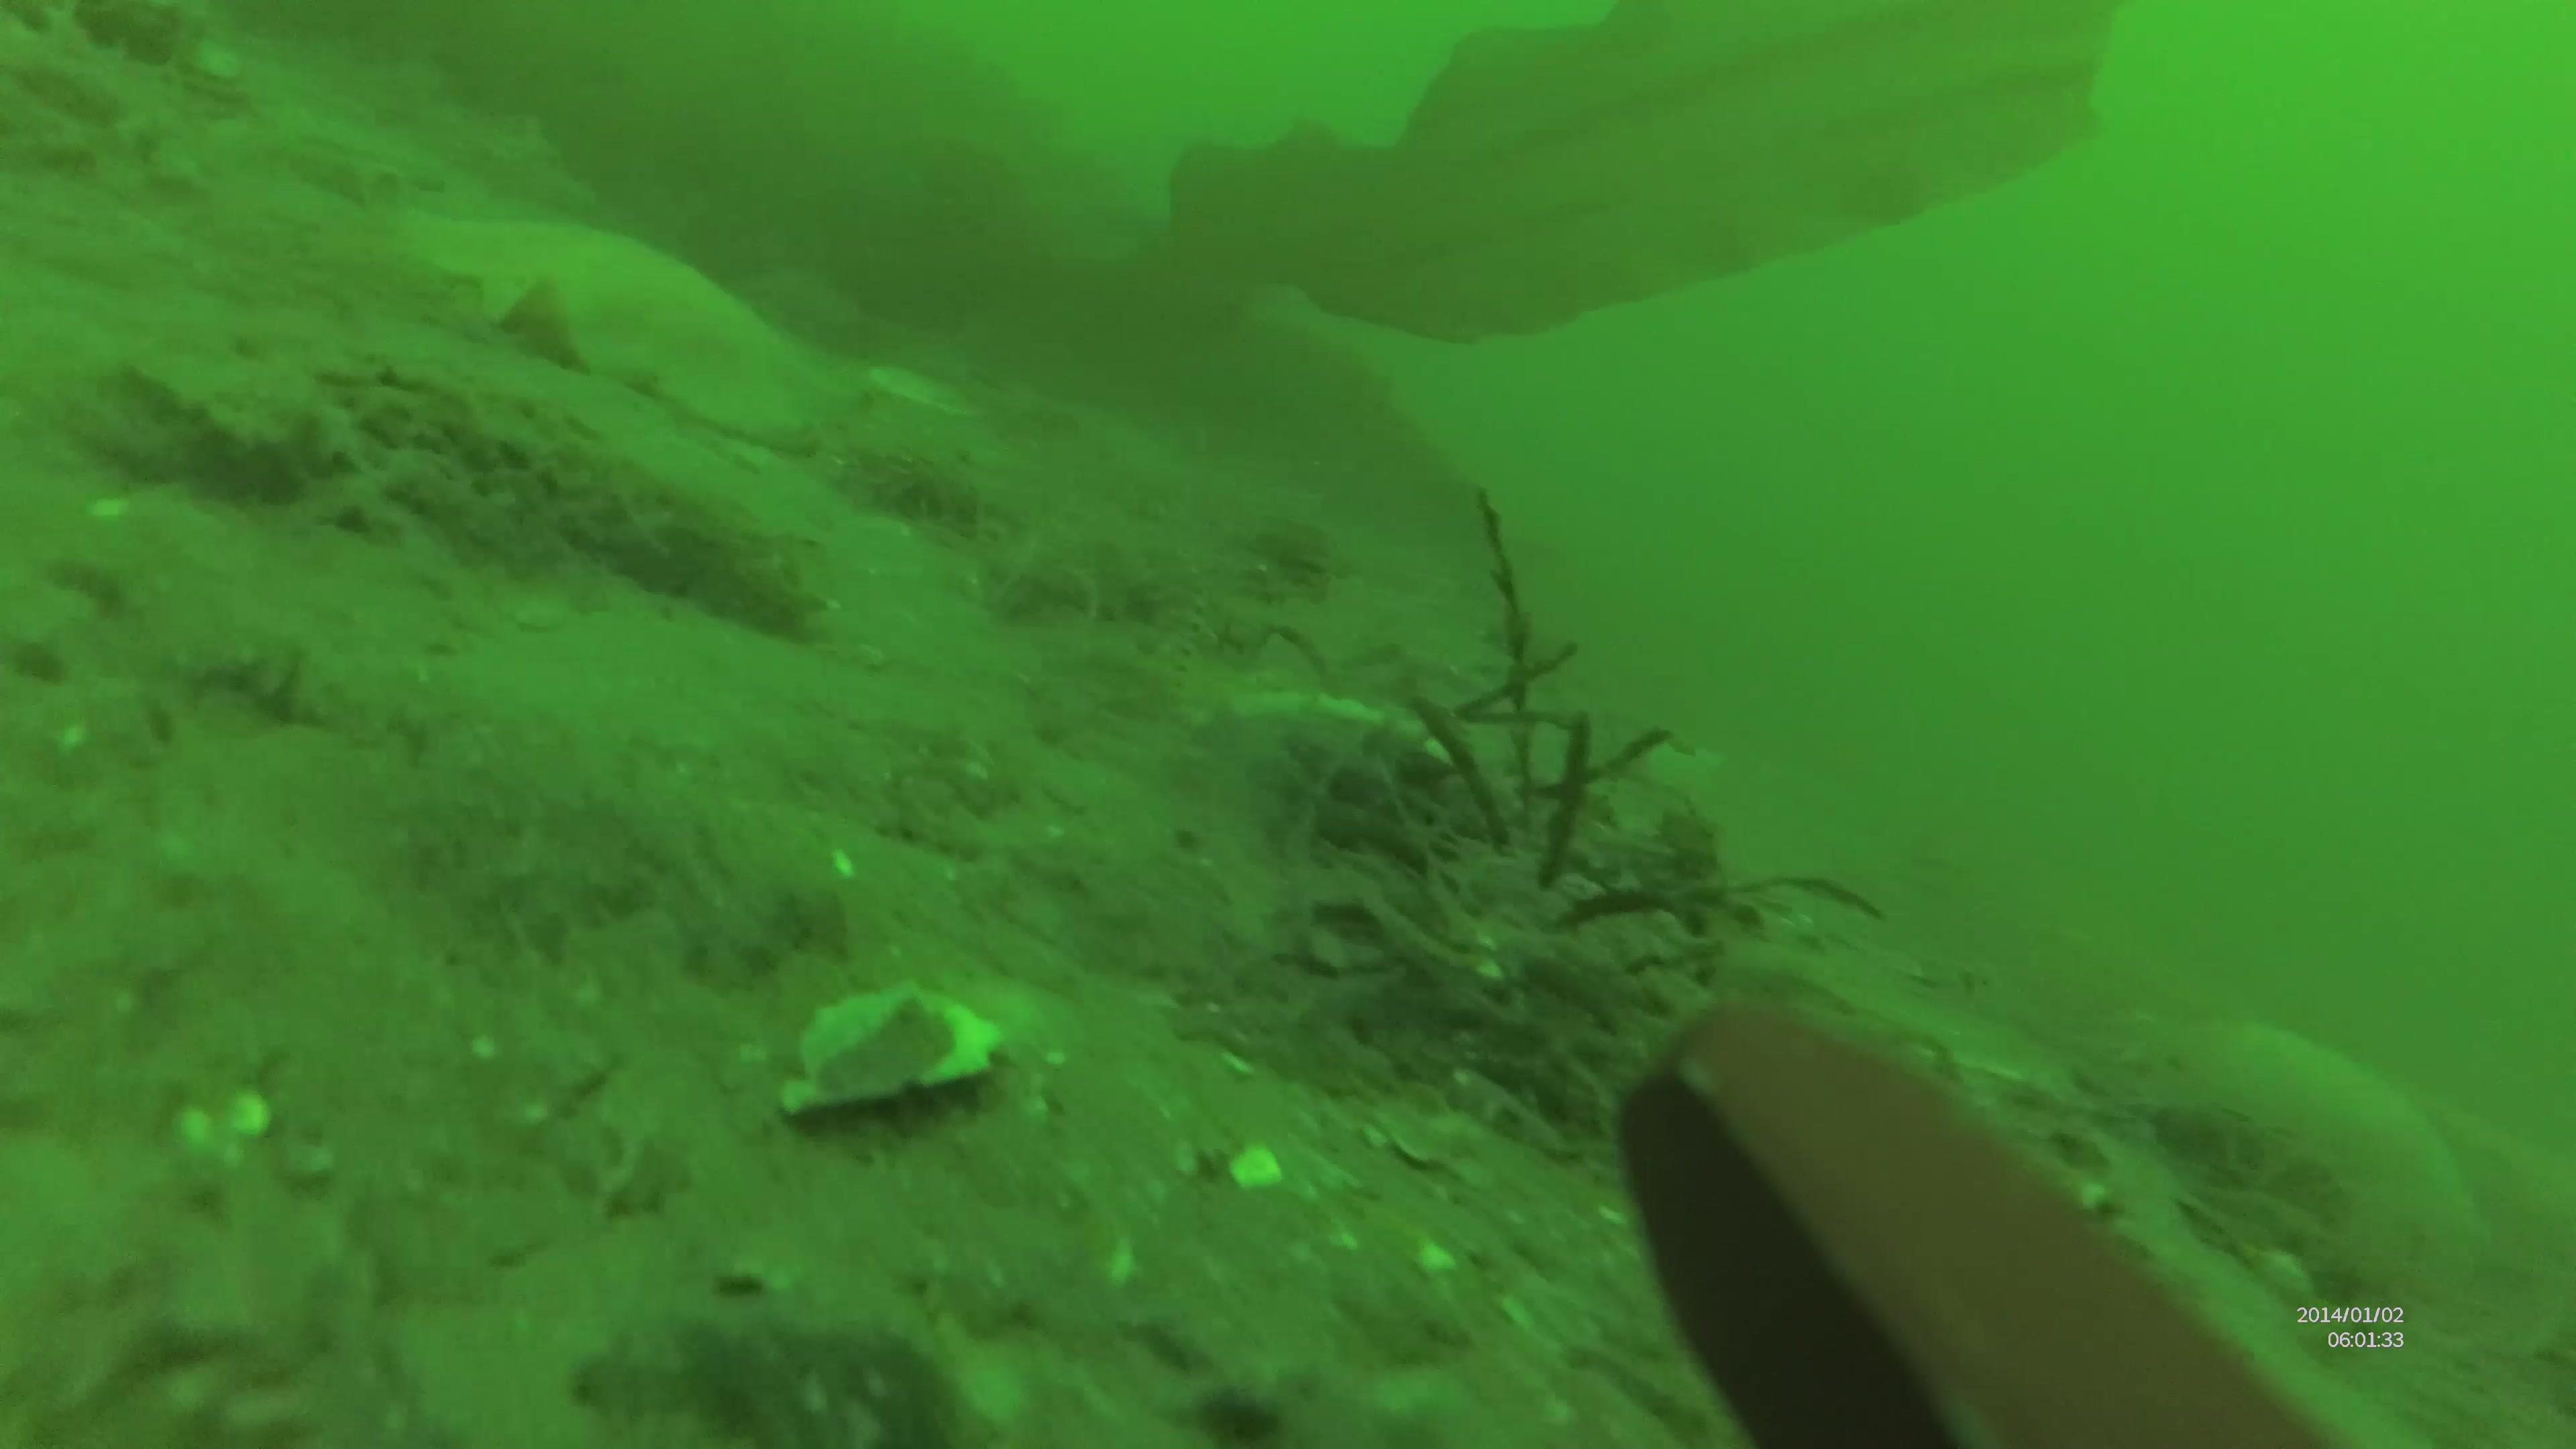scallop: (865, 366, 984, 418)
starfish: (398, 191, 881, 456), (2088, 1008, 2498, 1281)
